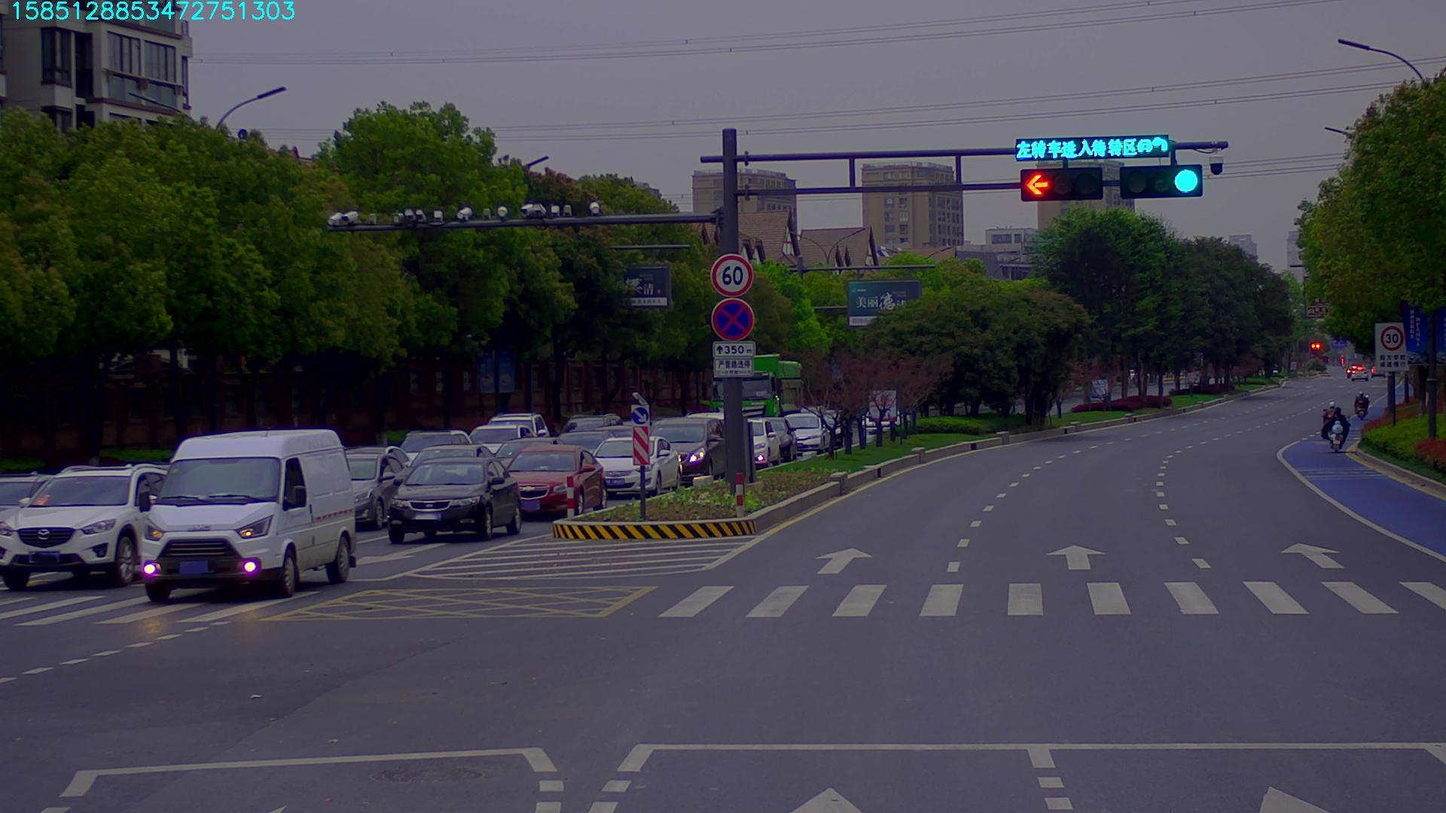green: (1124, 172, 1205, 202)
red: (1023, 171, 1105, 202)
wait_on: (1017, 129, 1176, 160)
